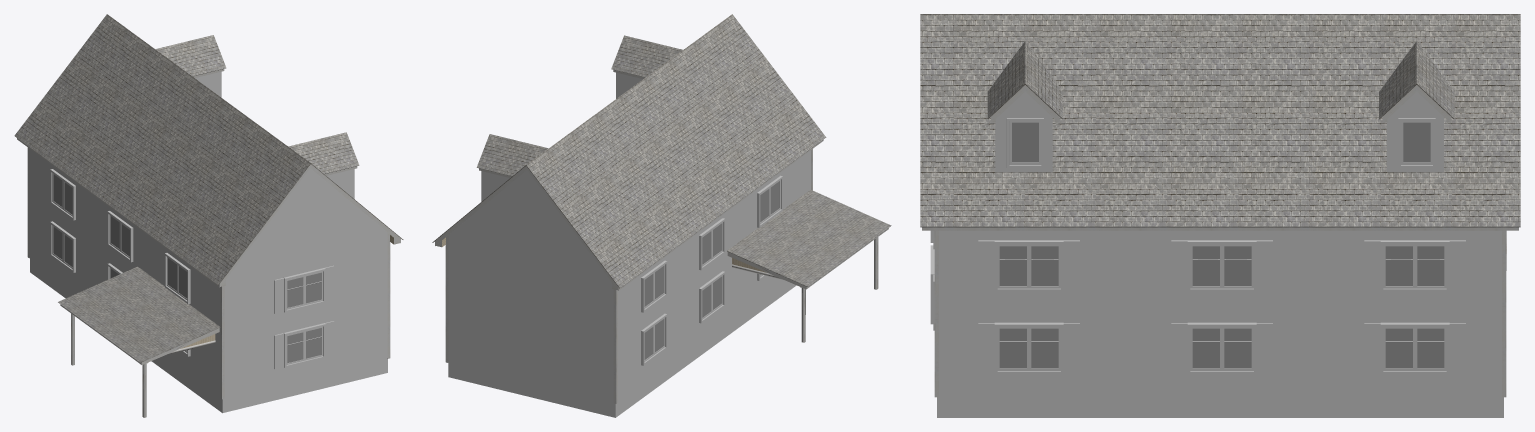
The model's file is Background_House_A.FBX.
The picture shows the model from 3 angles, left to right: view 1: azimuth 30°, elevation 25°; view 2: azimuth 150°, elevation 25°; view 3: azimuth 270°, elevation 25°; orthographic projection. The views are drawn at different scales.
Visible parts, largest first — view 1: Background_House_A; view 2: Background_House_A; view 3: Background_House_A.
Boxes of the visible parts, box(x1,y1,x2,y2) form: Background_House_A: box(14, 14, 403, 417); Background_House_A: box(432, 14, 891, 417); Background_House_A: box(920, 14, 1520, 417).
Bounding box in the file's own units: 1223 × 1065 × 1682.
